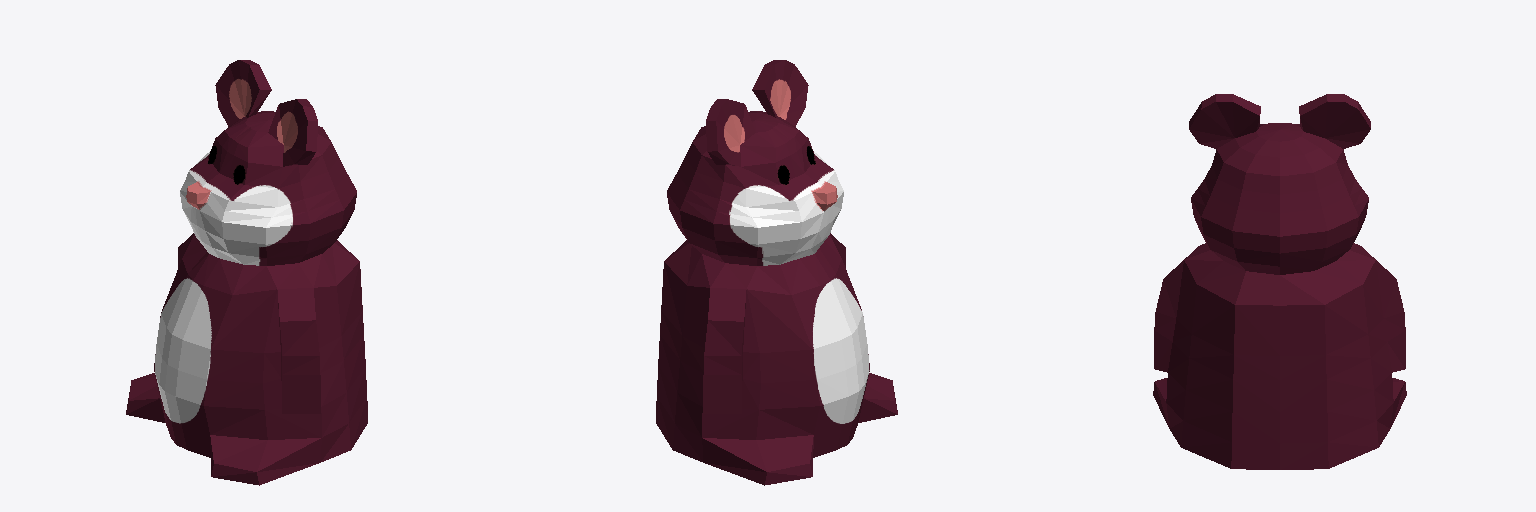
3 renders of one model, left to right at view 1: azimuth 30°, elevation 25°; view 2: azimuth 150°, elevation 25°; view 3: azimuth 270°, elevation 25°, orthographic.
Visible parts, largest first — view 1: pPipe2; view 2: pPipe2; view 3: pPipe2.
Boxes of the visible parts, x1,y1,x2,y2 form: pPipe2: [126, 60, 367, 485]; pPipe2: [656, 60, 897, 485]; pPipe2: [1153, 94, 1406, 469].
Bounding box in the file's own units: 1.06 × 1.89 × 1.28.
1 materials, 1 textured.